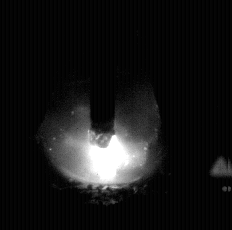arame: (90, 0, 118, 148)
poca: (44, 0, 155, 230)
